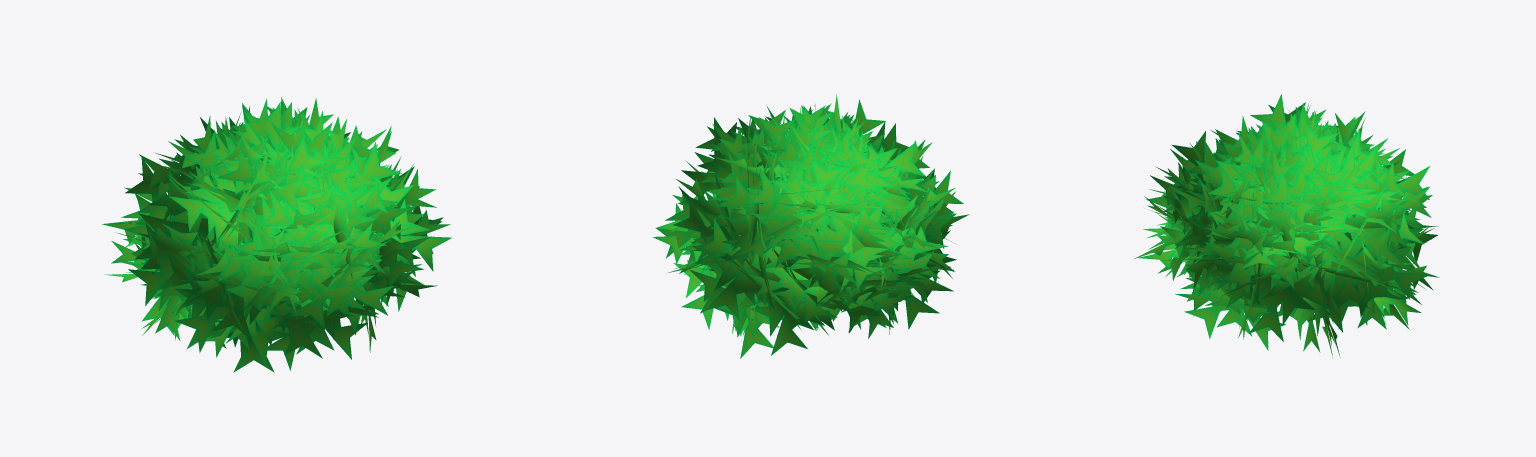
Rendered from cali.fbx.
3 renders of one model, left to right at view 1: azimuth 30°, elevation 25°; view 2: azimuth 150°, elevation 25°; view 3: azimuth 270°, elevation 25°, orthographic. The views are drawn at different scales.
Visible parts, largest first — view 1: Bush; view 2: Bush; view 3: Bush.
Part boxes in pixels (x1,y1,x2,y2): Bush: [102, 97, 451, 372]; Bush: [652, 94, 969, 358]; Bush: [1134, 94, 1439, 357].
Bounding box in the file's own units: 367 × 307 × 344.
1 material, 1 textured.
